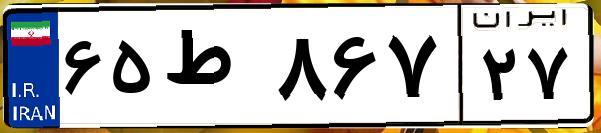2: (475, 38, 525, 113)
5: (110, 28, 158, 98)
6: (330, 28, 385, 110), (57, 26, 110, 100)
7: (385, 28, 445, 110), (525, 38, 570, 115)
8: (270, 28, 330, 110)
ط: (158, 20, 270, 120)
